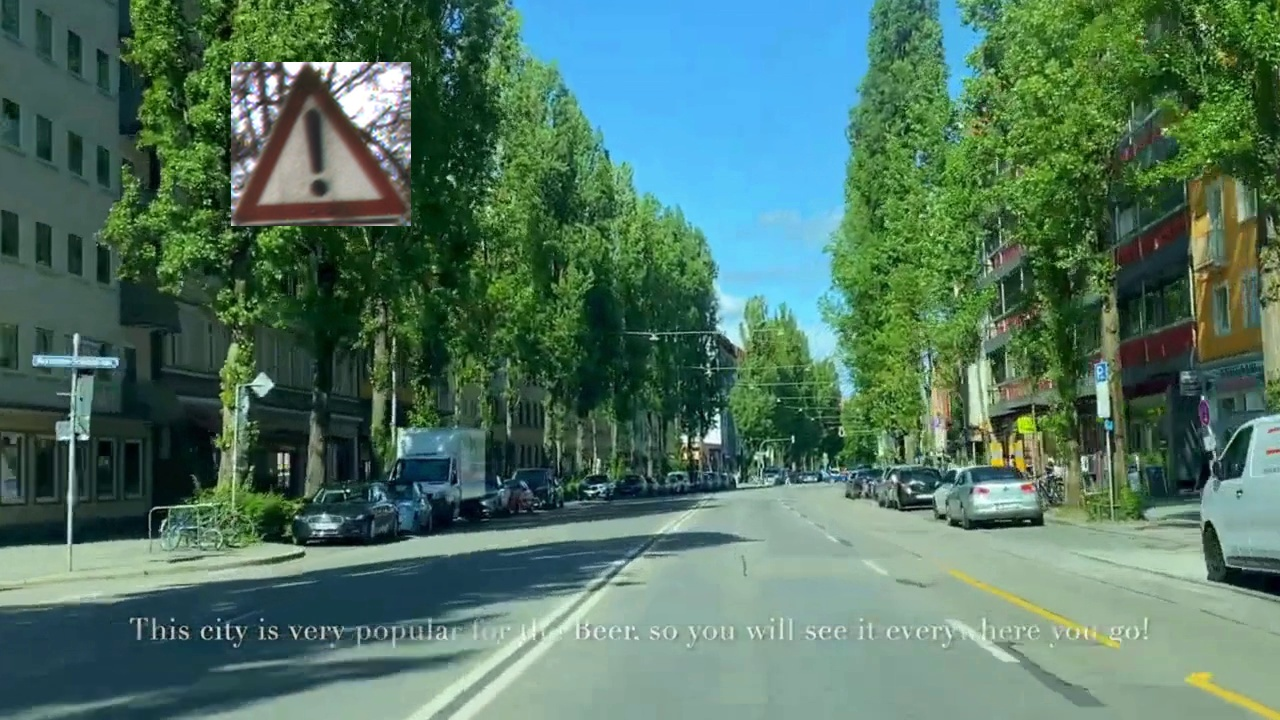Caution: (231, 62, 411, 226)
